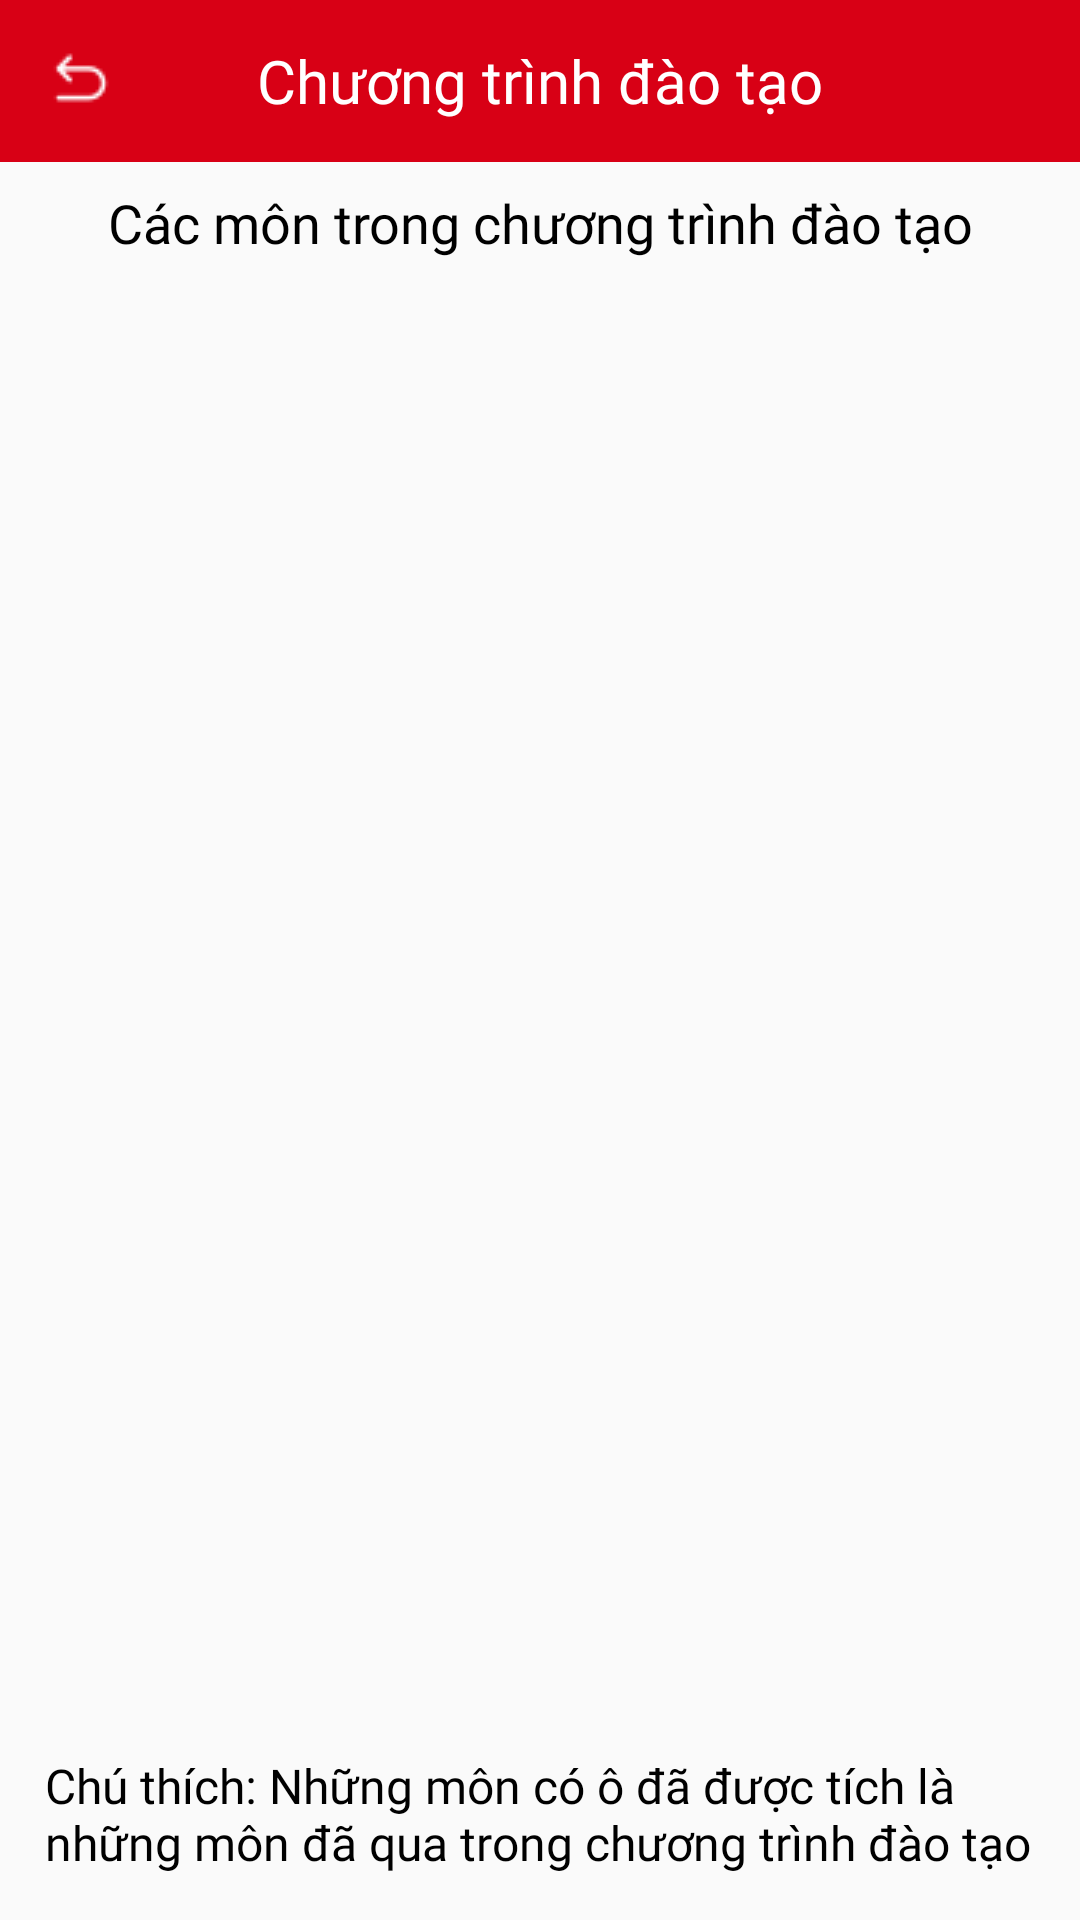

Where to tap for icons on this 1080w x 1920h app screen, as (x=x, y=y):
return: (x=81, y=78)
